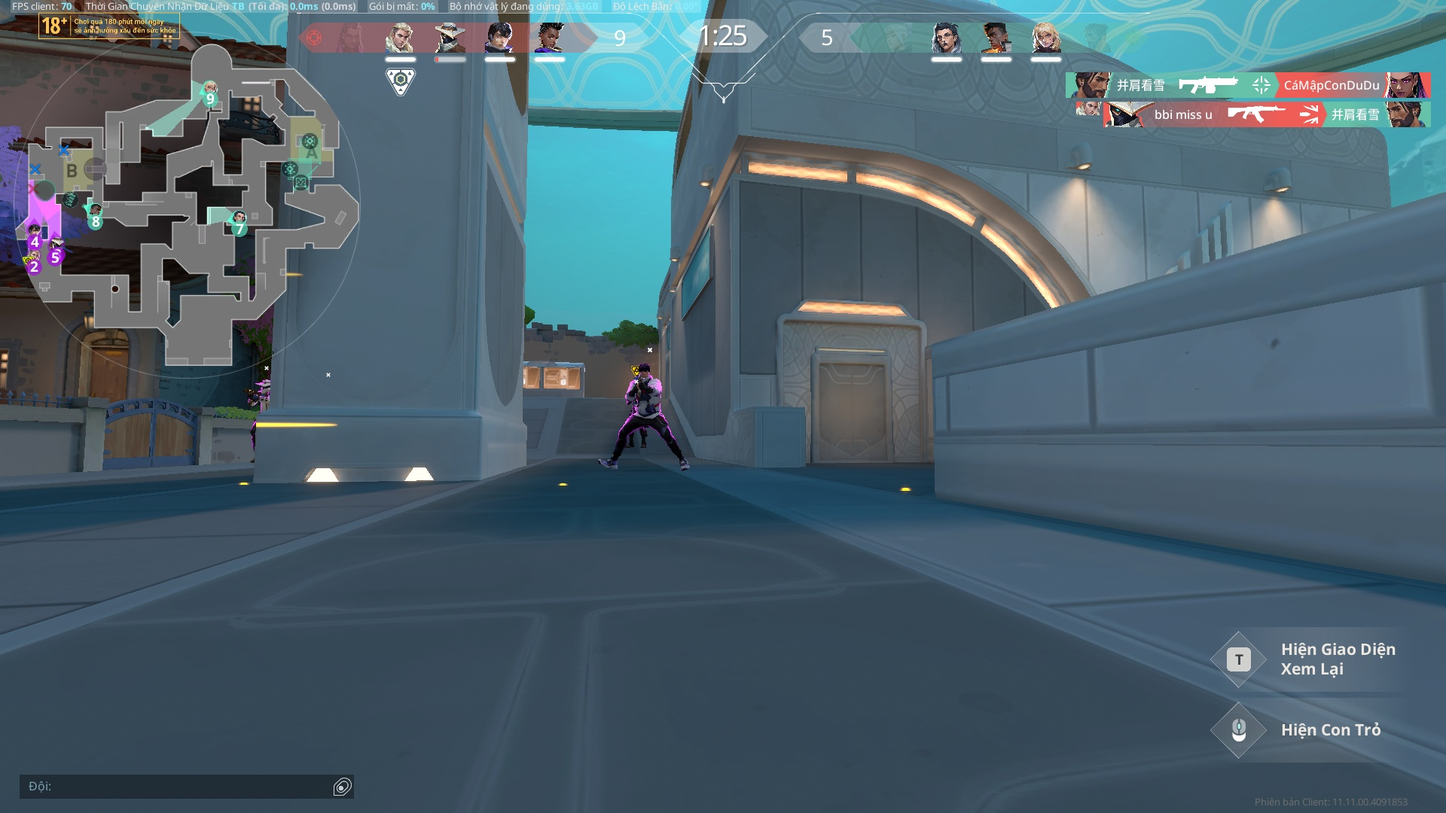body: (627, 374, 664, 410), (630, 400, 637, 412)
head: (637, 361, 651, 377)
